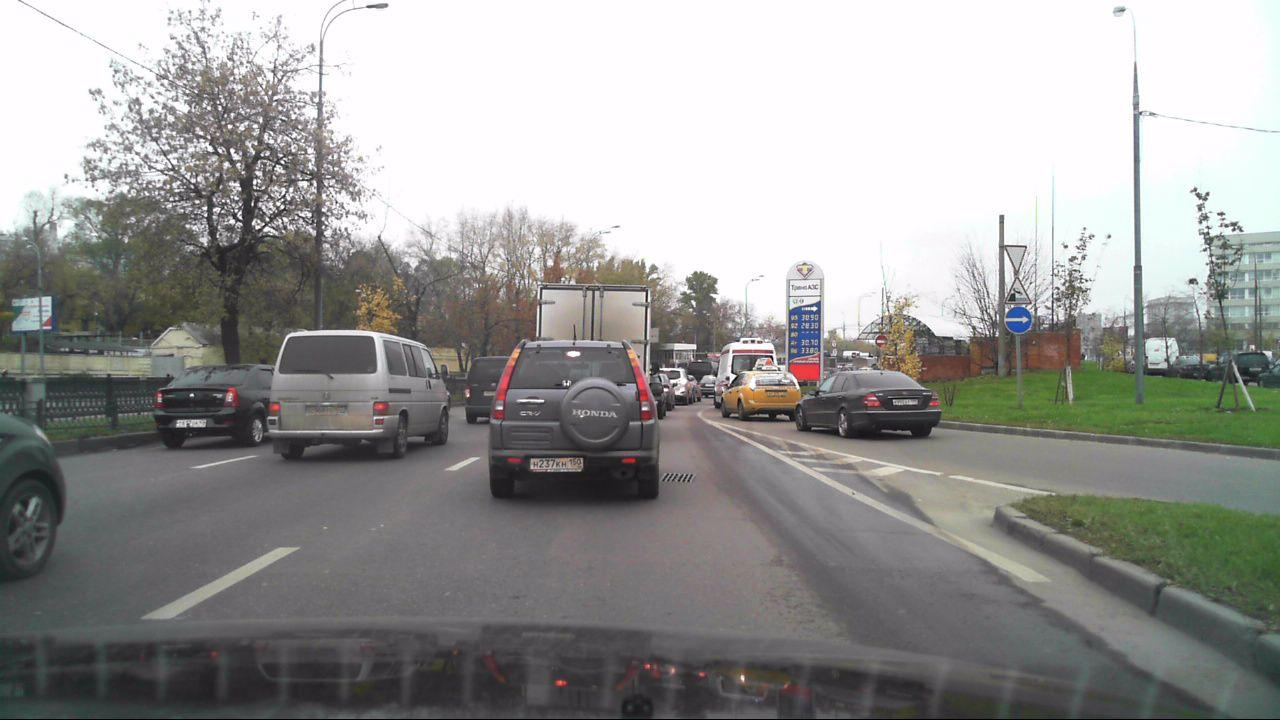1_10: (1001, 277, 1032, 305)
2_4: (1004, 243, 1028, 274)
3_1: (875, 336, 890, 348)
4_2_1: (1002, 305, 1034, 335)
